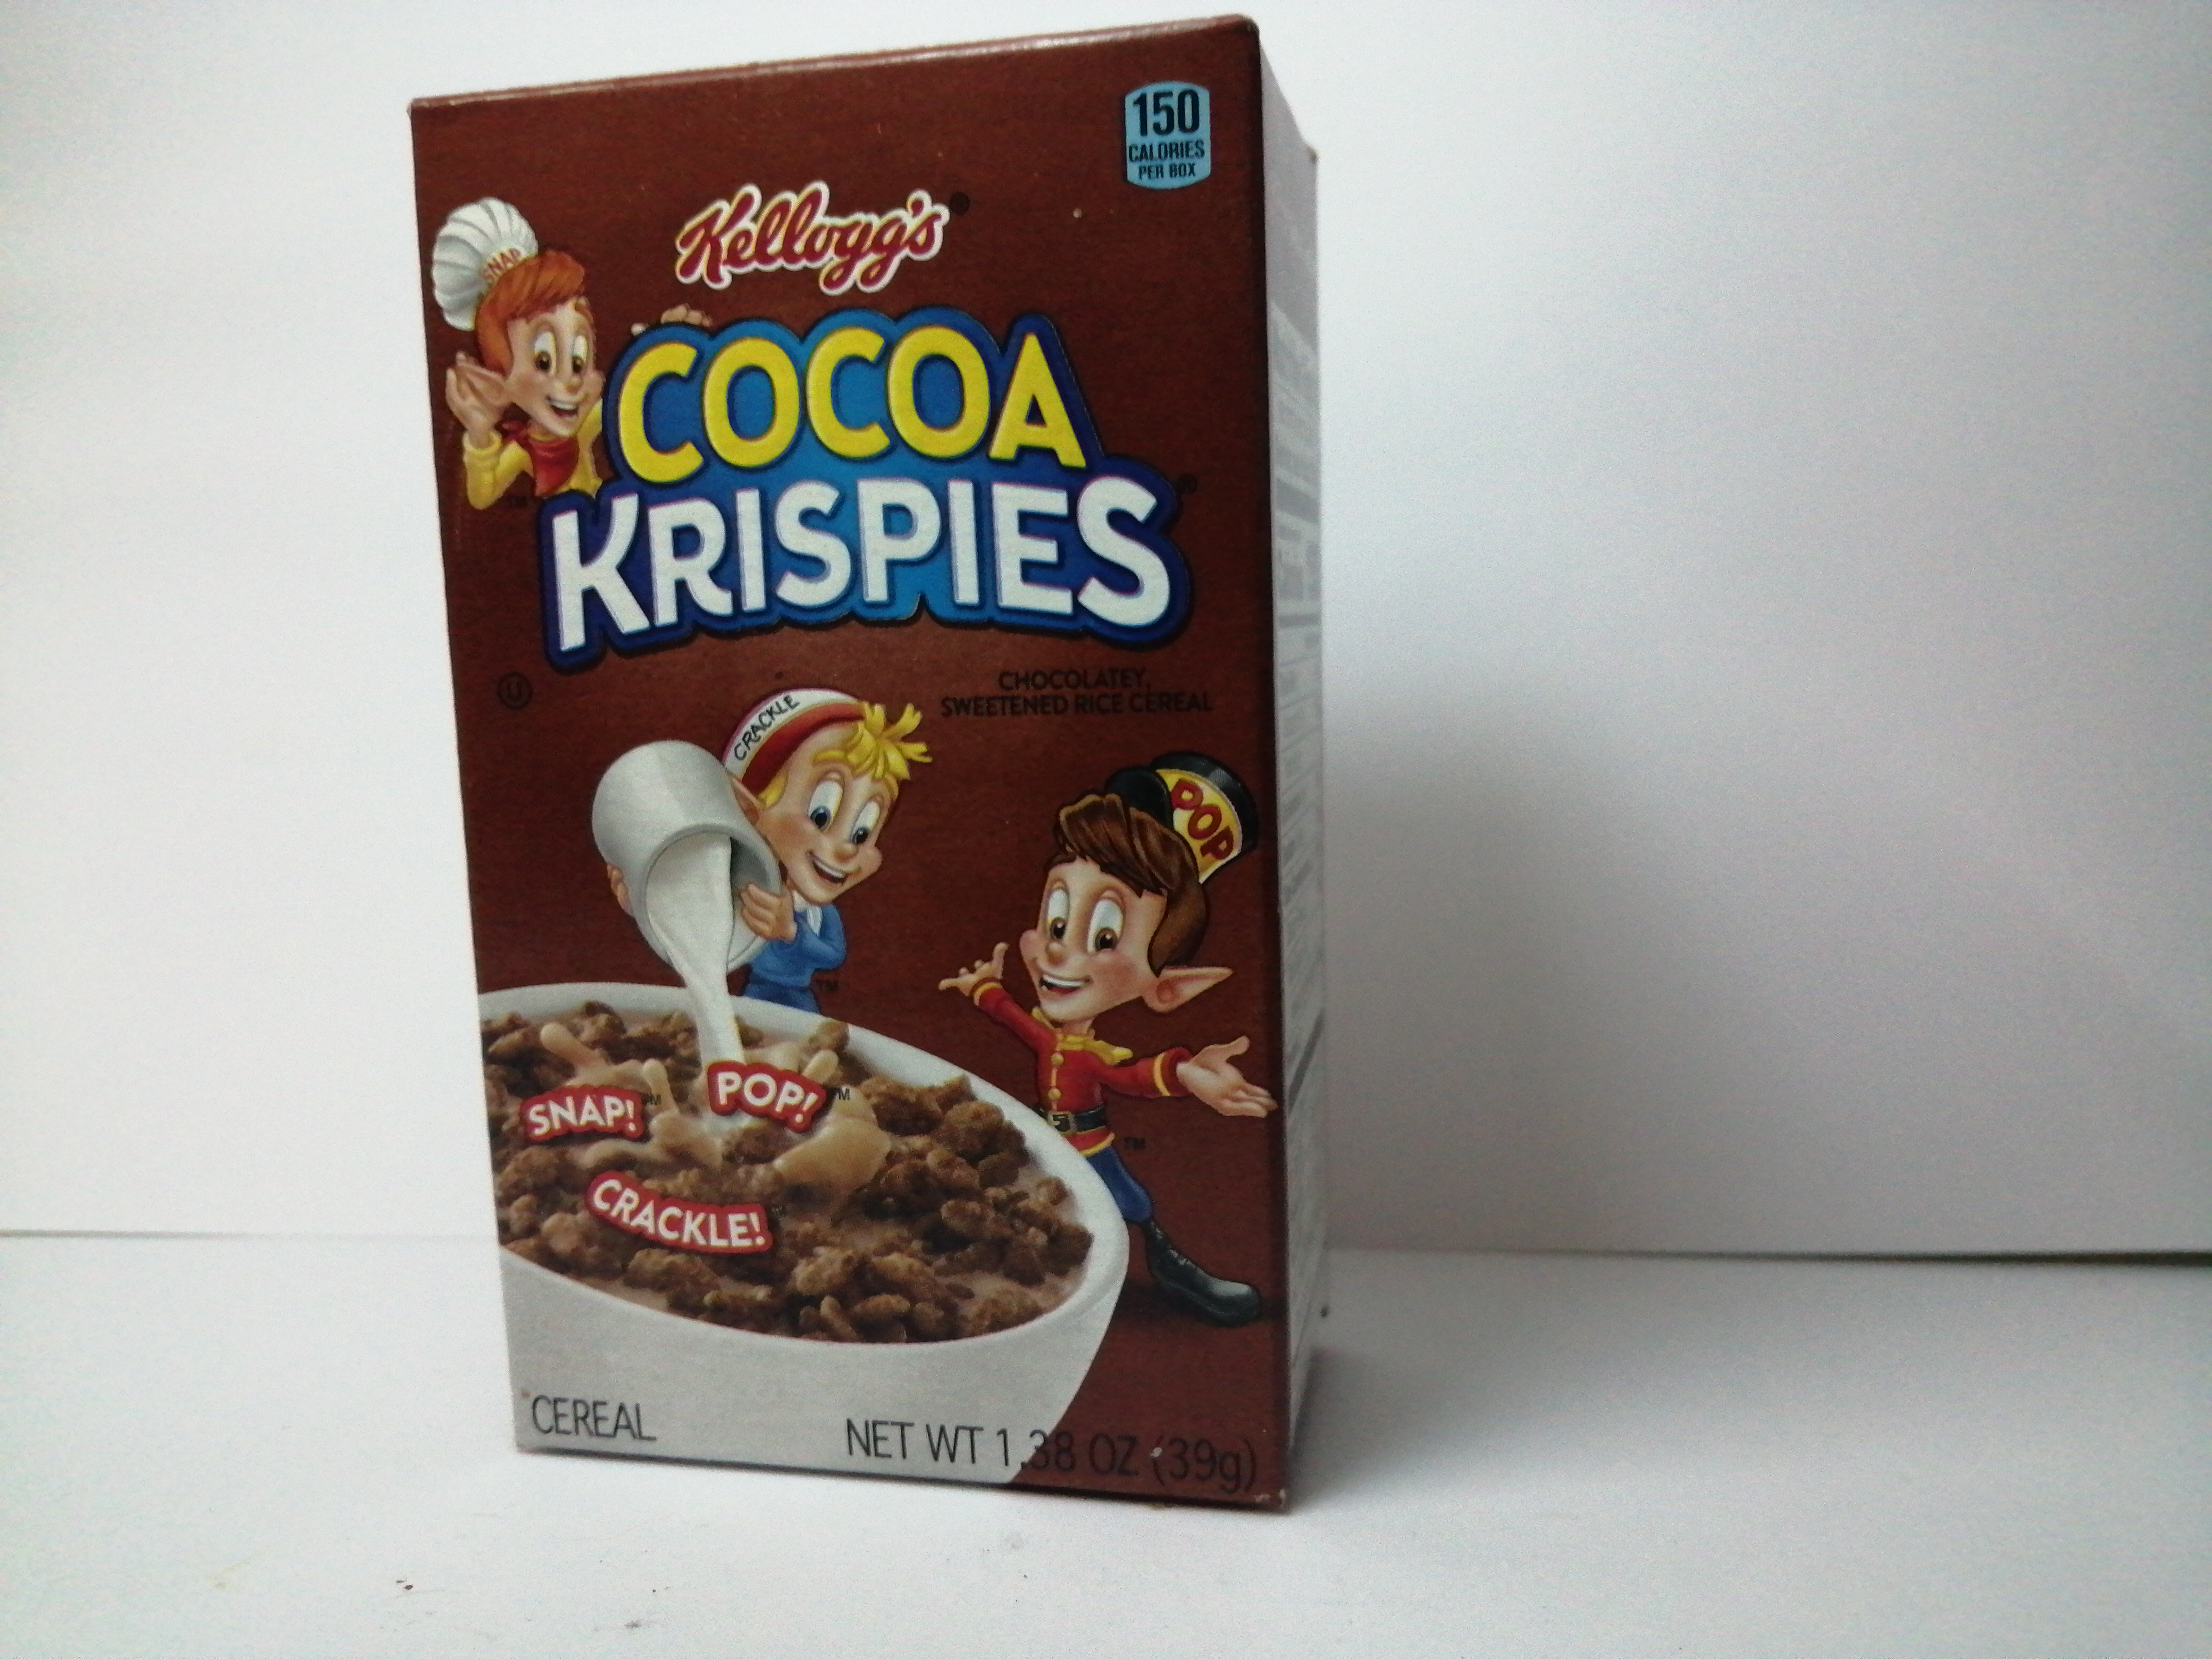cereal chocolate: (387, 16, 1381, 1537)
